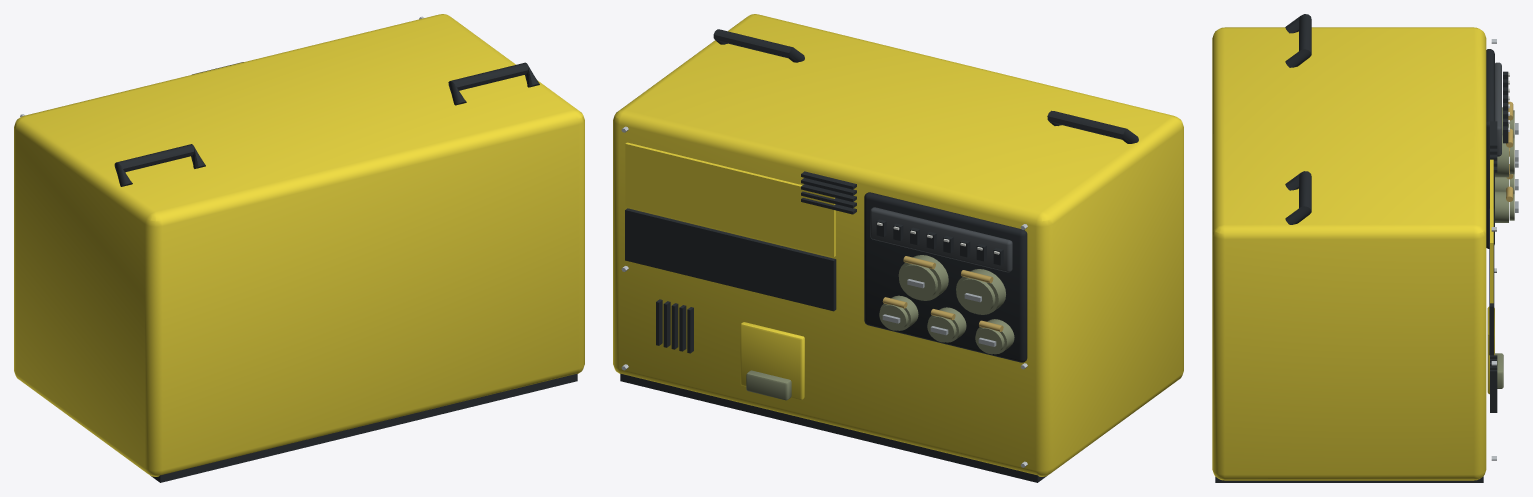
File: ob_generator.glb
3 renders of one model, left to right at view 1: azimuth 30°, elevation 25°; view 2: azimuth 150°, elevation 25°; view 3: azimuth 270°, elevation 25°, orthographic. The views are drawn at different scales.
Visible parts, largest first — view 1: ob_generator; view 2: ob_generator; view 3: ob_generator.
Boxes of the visible parts, x1,y1,x2,y2 form: ob_generator: [14, 14, 584, 482]; ob_generator: [613, 14, 1183, 482]; ob_generator: [1212, 14, 1518, 482].
Size of the model in its own units: 0.86 by 0.55 by 0.54.
